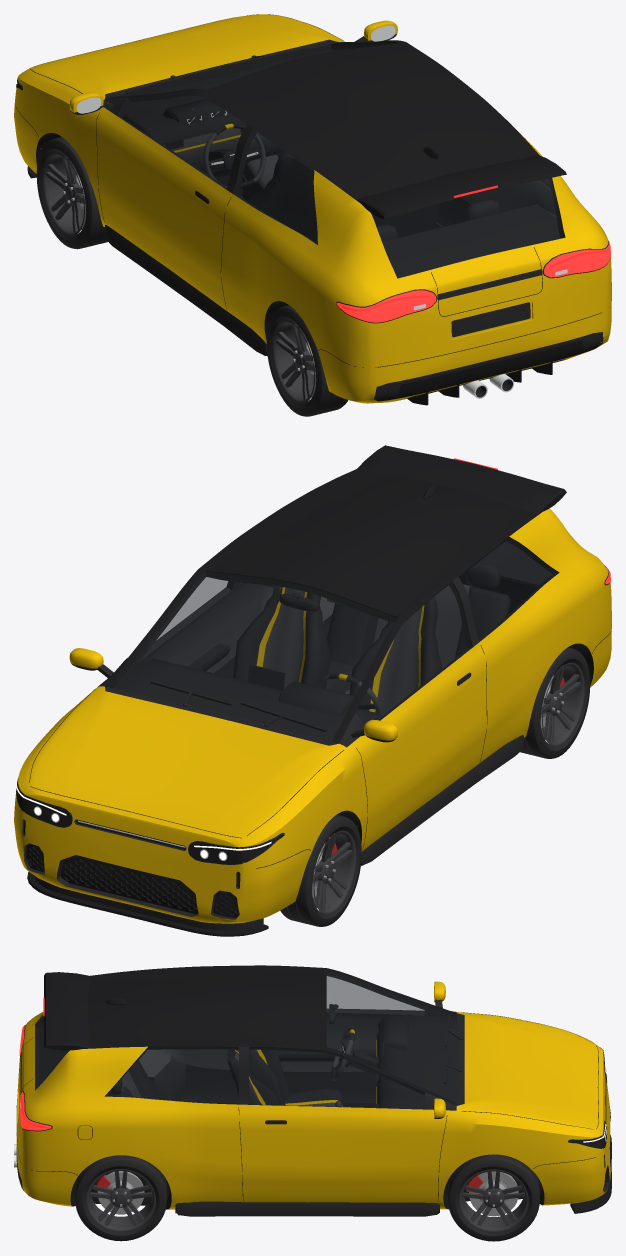
File: kestrel_r4.glb
3 views of the same model, one above another, from view 1: azimuth 30°, elevation 25°; view 2: azimuth 150°, elevation 25°; view 3: azimuth 270°, elevation 25° (orthographic). The views are drawn at different scales.
Visible parts, largest first — view 1: Body, Glass, Interior, Wheel_FL, Wheel_RL, Lights_Tail, SteeringWheel, Lights_Brake; view 2: Body, Glass, Interior, Wheel_FL, Wheel_RL; view 3: Body, Glass, Interior, Wheel_FR, Wheel_RR, SteeringWheel, Lights_Tail.
Boxes of the visible parts, bbox=[...] form: Body: bbox=[14, 14, 611, 405]; Glass: bbox=[118, 43, 564, 277]; Interior: bbox=[122, 49, 560, 278]; Wheel_FL: bbox=[36, 137, 107, 249]; Wheel_RL: bbox=[266, 305, 348, 416]; Lights_Tail: bbox=[336, 241, 610, 322]; SteeringWheel: bbox=[203, 123, 265, 187]; Lights_Brake: bbox=[341, 185, 610, 311]; Body: bbox=[14, 445, 611, 936]; Glass: bbox=[114, 538, 557, 740]; Interior: bbox=[117, 541, 554, 741]; Wheel_FL: bbox=[280, 814, 361, 926]; Wheel_RL: bbox=[520, 647, 590, 758]; Body: bbox=[14, 965, 611, 1216]; Glass: bbox=[36, 972, 455, 1109]; Interior: bbox=[38, 1004, 456, 1109]; Wheel_FR: bbox=[448, 1154, 539, 1241]; Wheel_RR: bbox=[75, 1155, 167, 1241]; SteeringWheel: bbox=[331, 1028, 354, 1080]; Lights_Tail: bbox=[19, 1025, 51, 1130].
Size of the model in its own units: 2.09 by 1.44 by 4.09.
